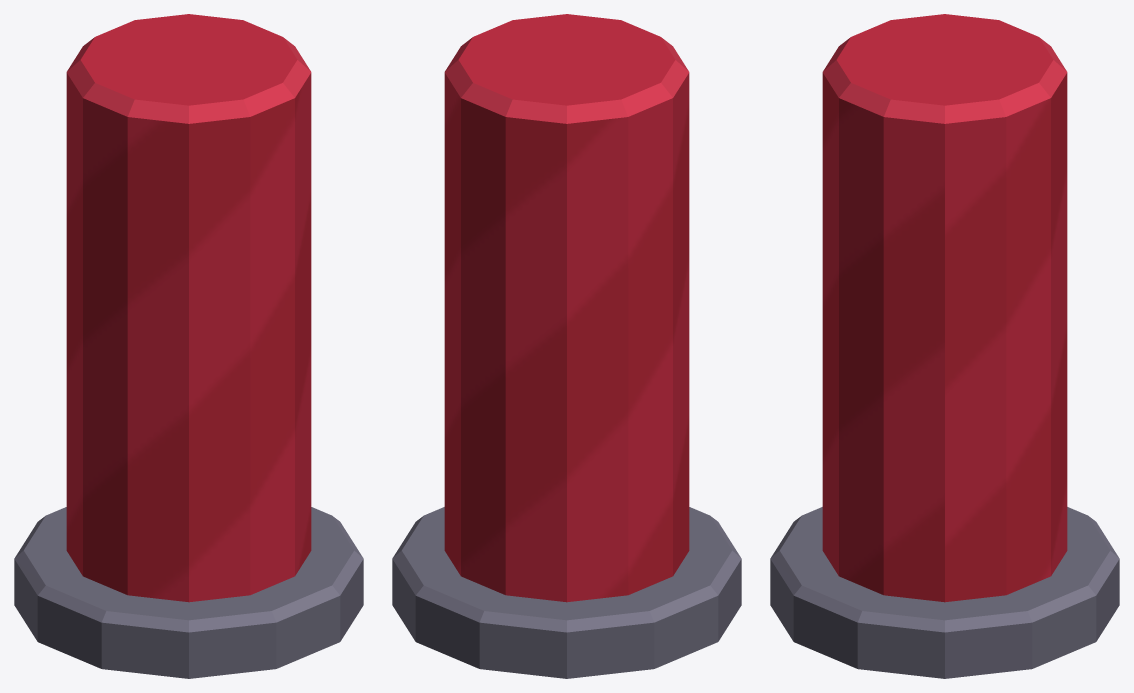
The model's file is Hurdle12.fbx.
The picture shows the model from 3 angles, left to right: view 1: azimuth 30°, elevation 25°; view 2: azimuth 150°, elevation 25°; view 3: azimuth 270°, elevation 25°; orthographic projection.
Parts seen in each view (by area): view 1: Hurdle12; view 2: Hurdle12; view 3: Hurdle12.
Boxes of the visible parts, x1,y1,x2,y2 form: Hurdle12: (14,14,363,678); Hurdle12: (392,14,741,678); Hurdle12: (770,14,1119,678).
Bounding box in the file's own units: 0.4681 × 0.806 × 0.4681.
Materials: 1 (1 with a texture image).
